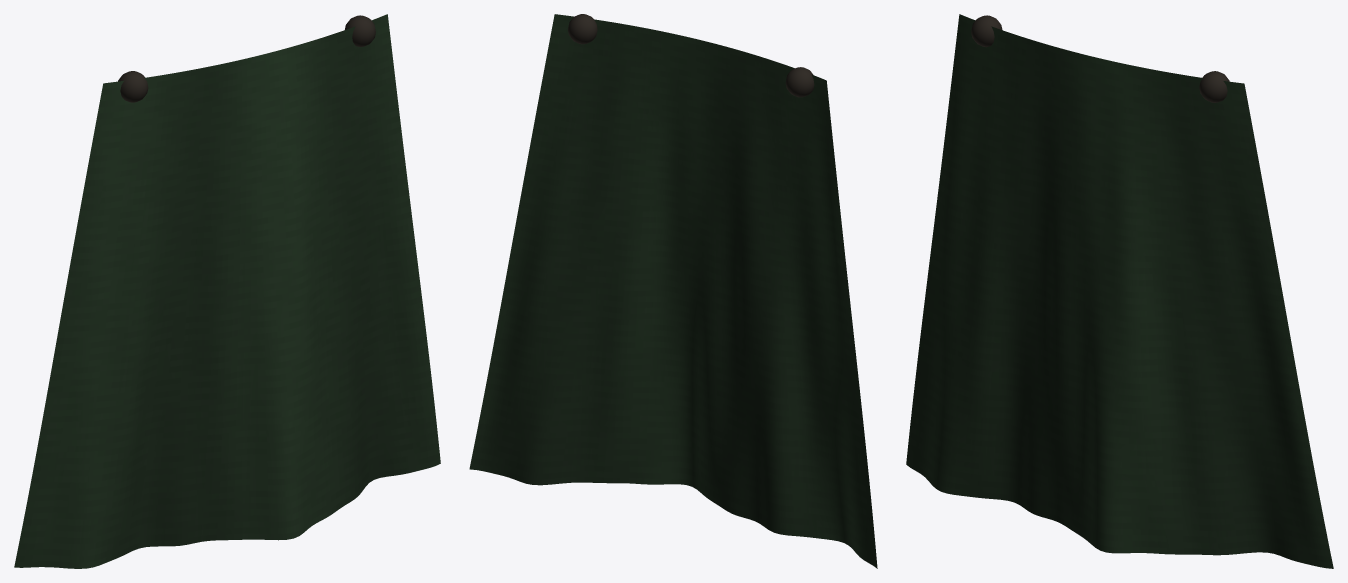
Rendered from cape_moss.glb.
3 renders of one model, left to right at view 1: azimuth 30°, elevation 25°; view 2: azimuth 150°, elevation 25°; view 3: azimuth 330°, elevation 25°, orthographic. The views are drawn at different scales.
Visible parts, largest first — view 1: Cape, Sphere, Sphere.001; view 2: Cape, Sphere.001, Sphere; view 3: Cape, Sphere.001, Sphere.
Part boxes in pixels (box(x1,y1,x2,y2)): Cape: box(14, 14, 440, 568); Sphere: box(118, 71, 148, 102); Sphere.001: box(345, 15, 375, 47); Cape: box(469, 14, 877, 568); Sphere.001: box(568, 14, 597, 44); Sphere: box(785, 67, 814, 97); Cape: box(906, 14, 1333, 568); Sphere.001: box(1199, 71, 1229, 102); Sphere: box(971, 15, 1002, 47).
Bounding box in the file's own units: 0.93 × 1.01 × 0.153.
